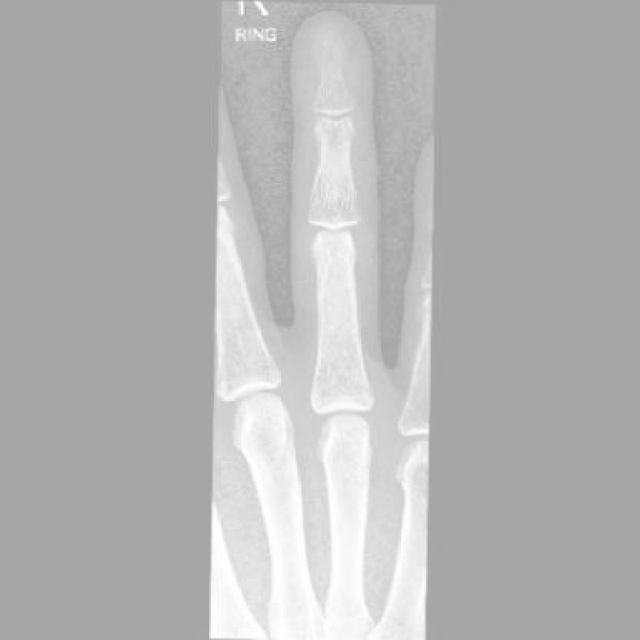Fracture: (309, 32, 343, 66)
